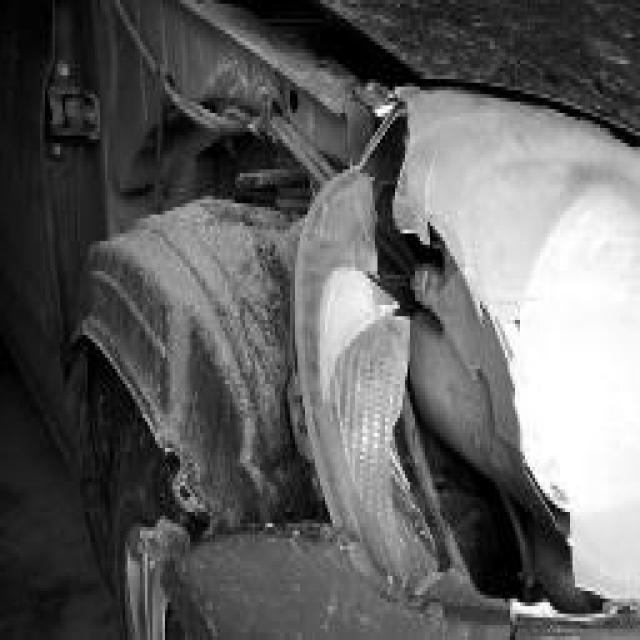Bumper: (161, 521, 640, 640)
Fender: (56, 0, 407, 526)
Light: (290, 74, 640, 640)
